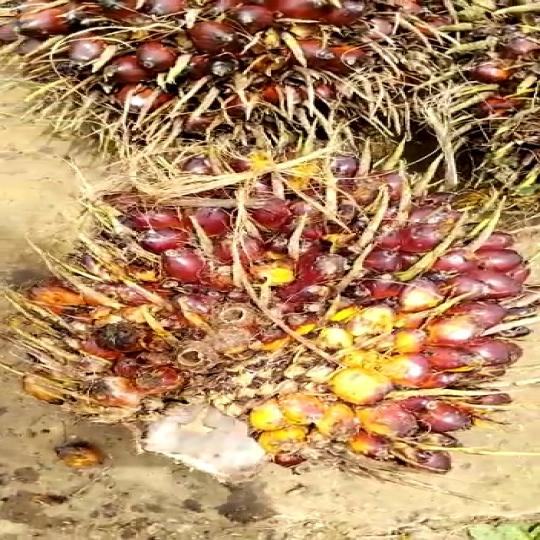masak: (31, 150, 540, 492)
